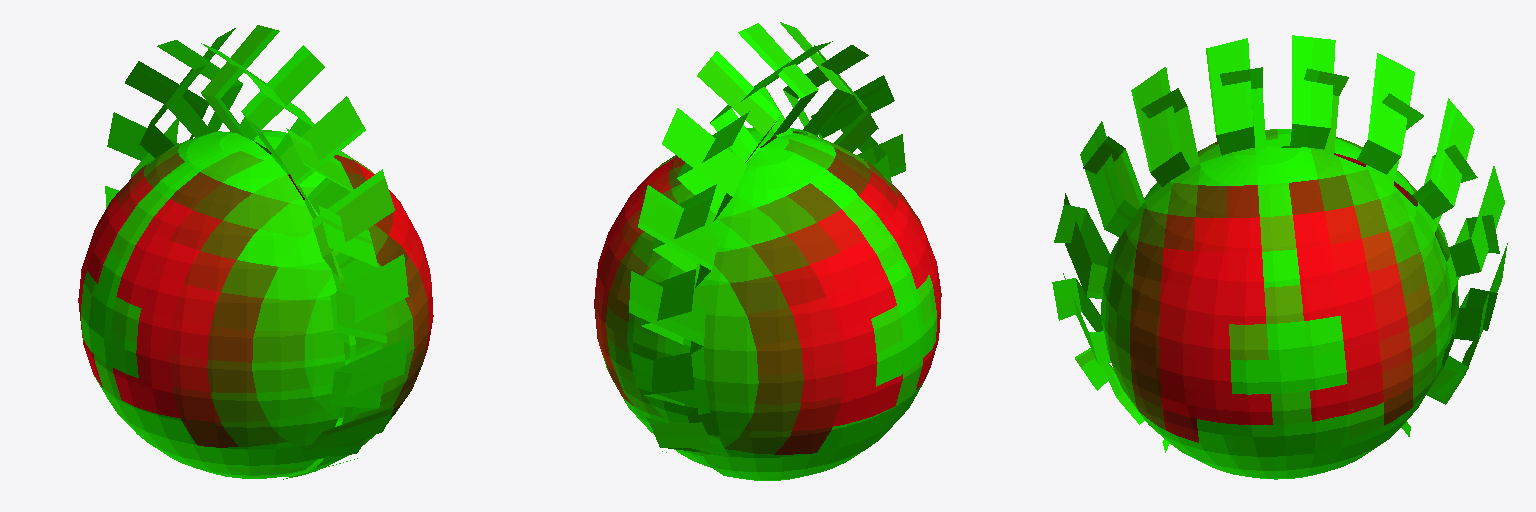
3 views of the same model, side by side, from view 1: azimuth 30°, elevation 25°; view 2: azimuth 150°, elevation 25°; view 3: azimuth 270°, elevation 25° (orthographic).
Parts seen in each view (by area): view 1: Sphere; view 2: Sphere; view 3: Sphere.
Boxes of the visible parts, x1,y1,x2,y2 form: Sphere: [78, 25, 433, 479]; Sphere: [594, 22, 941, 480]; Sphere: [1052, 35, 1507, 479].
Bounding box in the file's own units: 2 × 2.6 × 2.59.
Materials: 1 (1 with a texture image).